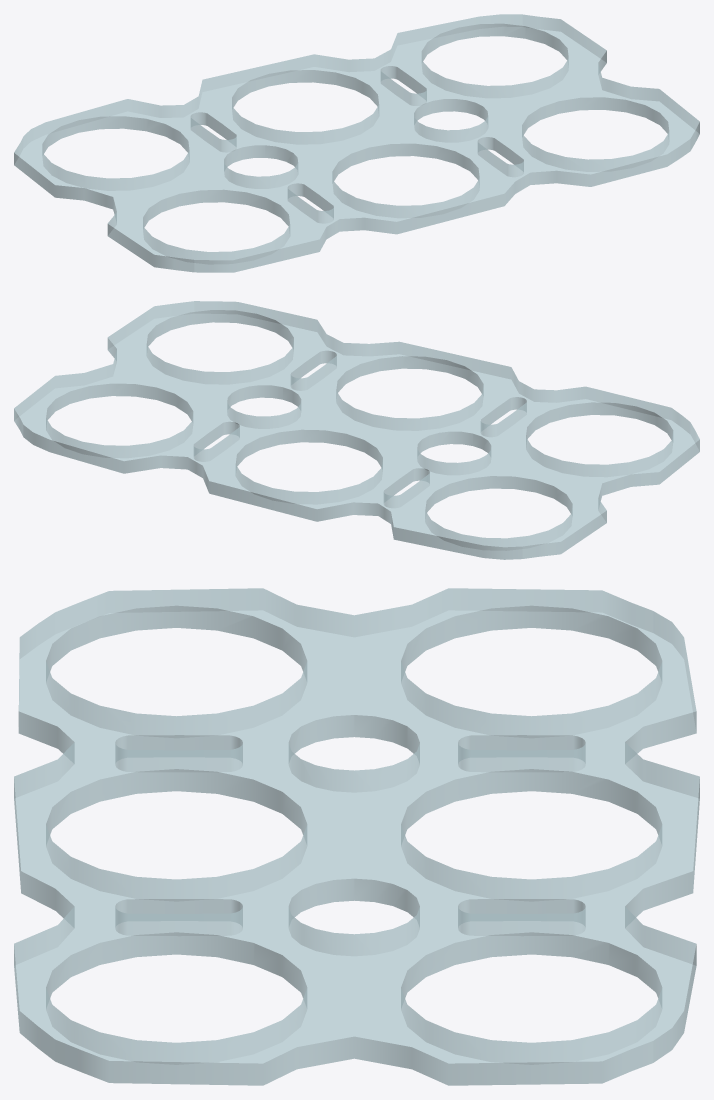
File: Basura_Latas.fbx
The picture shows the model from 3 angles, top to bottom: view 1: azimuth 30°, elevation 25°; view 2: azimuth 150°, elevation 25°; view 3: azimuth 270°, elevation 25°; orthographic projection. The views are drawn at different scales.
Parts seen in each view (by area): view 1: Plastico_latas; view 2: Plastico_latas; view 3: Plastico_latas.
Part boxes in pixels (<box>): Plastico_latas: <box>14,14,699,272</box>; Plastico_latas: <box>14,301,699,559</box>; Plastico_latas: <box>14,588,699,1085</box>.
Bounding box in the file's own units: 2.9 × 0.0632 × 1.77.
